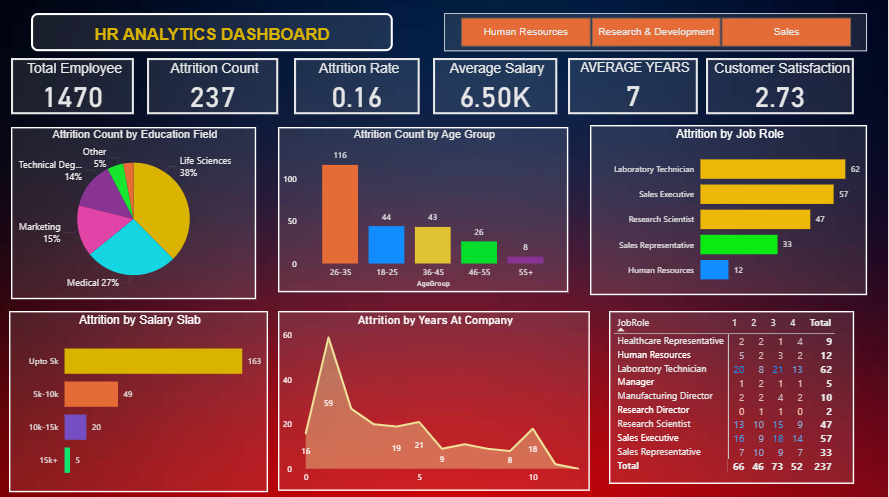

The page's visual inventory and layout, read from the dashboard file:
{"tool":"powerbi","page":{"name":"Page 1","canvas":[1280,720],"ordinal":0},"visuals":[{"type":"card","title":"Total Employee","fields":{"Values":["CountNonNull(HR_Analytics.EmpID)"]},"box":[15.8,85,177.1,80.6],"z":0},{"type":"card","title":"Attrition Count","fields":{"Values":["Sum(HR_Analytics.Attrition_Count)"]},"box":[211.7,85,188.6,80.6],"z":1000},{"type":"card","title":"Attrition Rate","fields":{"Values":["HR_Analytics.Attrition_Rate"]},"box":[423.4,85,181.4,80.6],"z":2000},{"type":"card","title":"Average Salary","fields":{"Values":["Avg(HR_Analytics.MonthlyIncome)"]},"box":[623.5,85,178.6,80.6],"z":3000},{"type":"card","title":"Customer Satisfaction","fields":{"Values":["Avg(HR_Analytics.JobSatisfaction)"]},"box":[1016.6,85,213.1,80.6],"z":4000},{"type":"card","title":"AVERAGE YEARS","fields":{"Values":["Avg(HR_Analytics.YearsAtCompany)"]},"box":[817.9,85,187.2,80.6],"z":5000},{"type":"pieChart","title":"Attrition Count by Education Field","fields":{"Category":["HR_Analytics.EducationField"],"Y":["Sum(HR_Analytics.Attrition_Count)"]},"box":[15.8,184.3,352.8,247.7],"z":6000},{"type":"columnChart","title":"Attrition Count by Age Group","fields":{"Category":["HR_Analytics.AgeGroup"],"Y":["Sum(HR_Analytics.Attrition_Count)"]},"box":[400.3,184.3,417.6,237.6],"z":7000},{"type":"pivotTable","fields":{"Rows":["HR_Analytics.JobRole"],"Columns":["HR_Analytics.JobSatisfaction"],"Values":["Sum(HR_Analytics.Attrition_Count)"]},"box":[877,449.3,352.8,249.1],"z":8000},{"type":"barChart","title":"Attrition by Salary Slab","fields":{"Y":["Sum(HR_Analytics.Attrition_Count)"],"Category":["HR_Analytics.SalarySlab"]},"box":[13,449.3,373,260.6],"z":9000},{"type":"barChart","title":"Attrition by Job Role","fields":{"Y":["Sum(HR_Analytics.Attrition_Count)"],"Category":["HR_Analytics.JobRole"]},"box":[849.6,181.4,398.9,244.8],"z":10000},{"type":"stackedAreaChart","title":"Attrition by Years At Company","fields":{"Category":["HR_Analytics.YearsAtCompany"],"Y":["Sum(HR_Analytics.Attrition_Count)"]},"box":[400.3,449.3,449.3,259.2],"z":11000},{"type":"textbox","box":[44.6,20.2,521.3,54.7],"z":12000},{"type":"slicer","fields":{"Values":["HR_Analytics.Department"]},"box":[639.4,20.2,609.1,54.7],"z":13000}]}

Visuals, with their boxes in screenshot pixels (x1, y1, x2, y2), scaled from the page's 1280x720 canvas onto the 889x497 screenshot:
"Total Employee" card: BBox(11, 59, 134, 114)
"Attrition Count" card: BBox(147, 59, 278, 114)
"Attrition Rate" card: BBox(294, 59, 420, 114)
"Average Salary" card: BBox(433, 59, 557, 114)
"Customer Satisfaction" card: BBox(706, 59, 854, 114)
"AVERAGE YEARS" card: BBox(568, 59, 698, 114)
"Attrition Count by Education Field" pieChart: BBox(11, 127, 256, 298)
"Attrition Count by Age Group" columnChart: BBox(278, 127, 568, 291)
pivotTable - HR_Analytics.JobRole x HR_Analytics.JobSatisfaction: BBox(609, 310, 854, 482)
"Attrition by Salary Slab" barChart: BBox(9, 310, 268, 490)
"Attrition by Job Role" barChart: BBox(590, 125, 867, 294)
"Attrition by Years At Company" stackedAreaChart: BBox(278, 310, 590, 489)
textbox: BBox(31, 14, 393, 52)
slicer - HR_Analytics.Department: BBox(444, 14, 867, 52)
